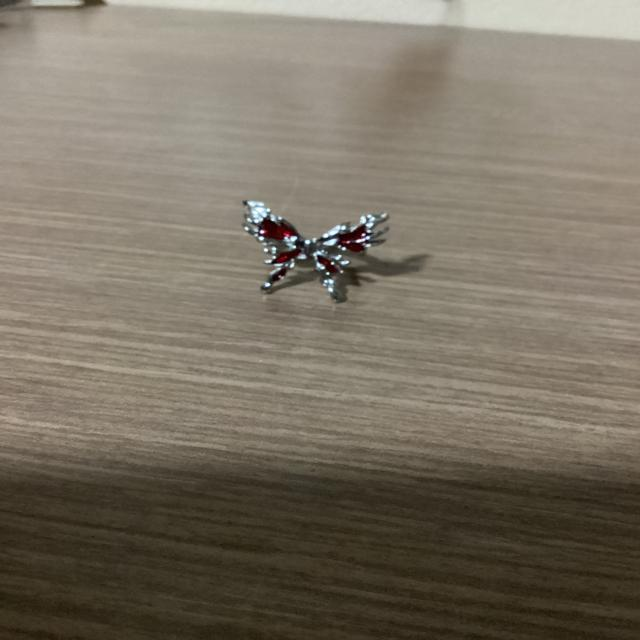Ring: (237, 195, 392, 306)
